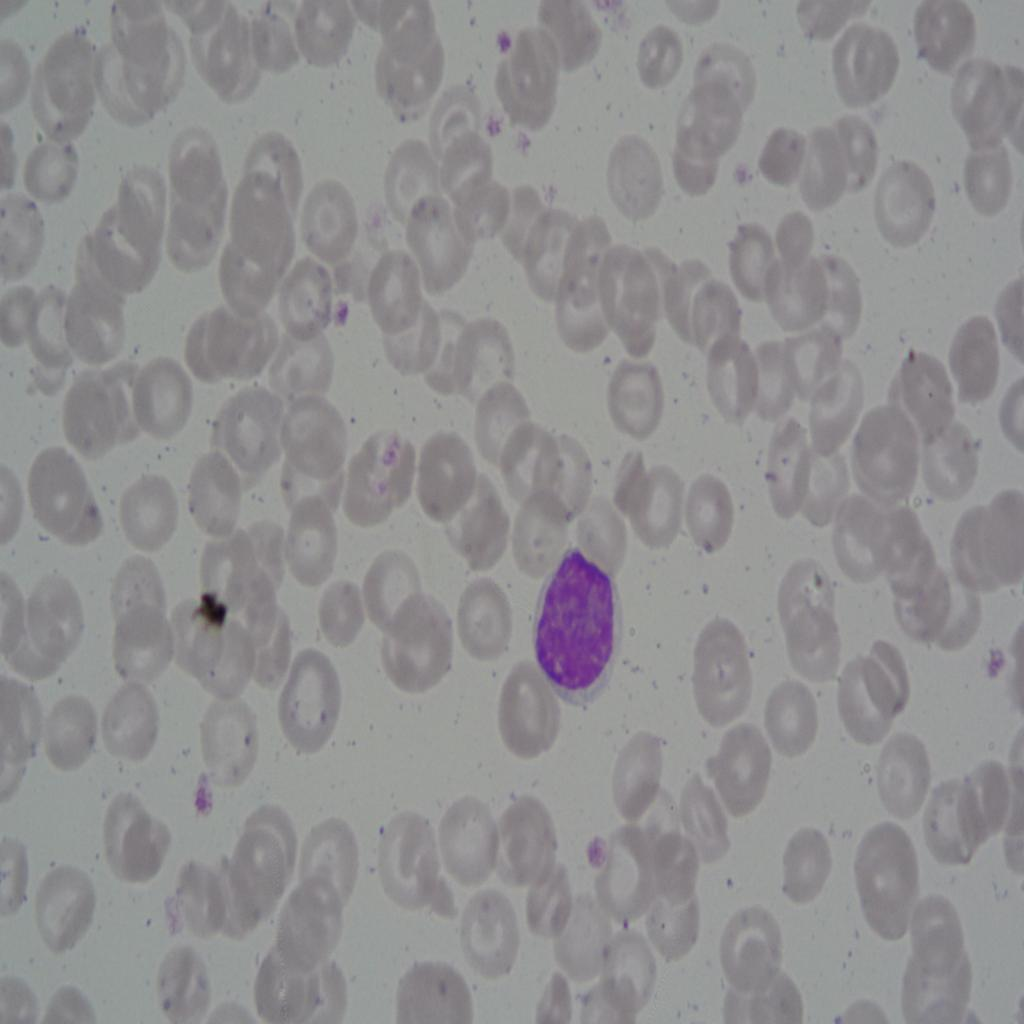Myeoblast: (528, 531, 620, 720)
Platelet: (576, 807, 612, 875), (188, 756, 220, 824), (727, 146, 763, 190), (986, 638, 1010, 684), (331, 297, 359, 333), (493, 20, 517, 58), (480, 104, 500, 142), (511, 129, 538, 153)
